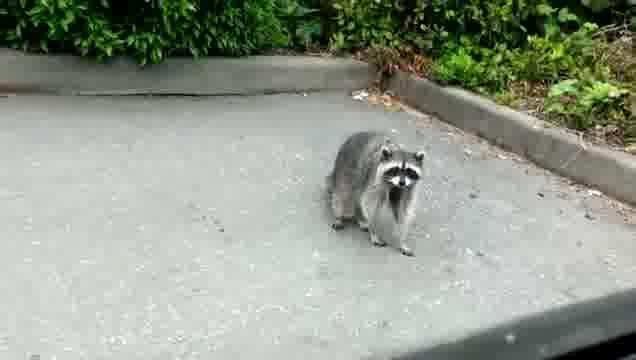raccoon: (326, 131, 425, 256)
